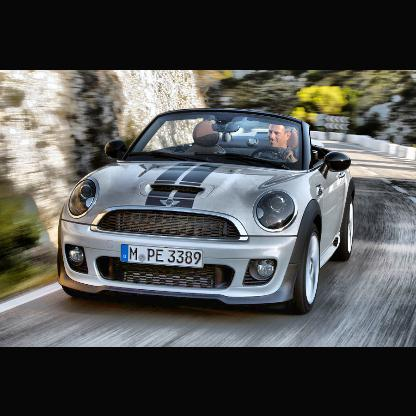MINI Cooper Roadster Convertible 2012: (59, 108, 356, 317)
